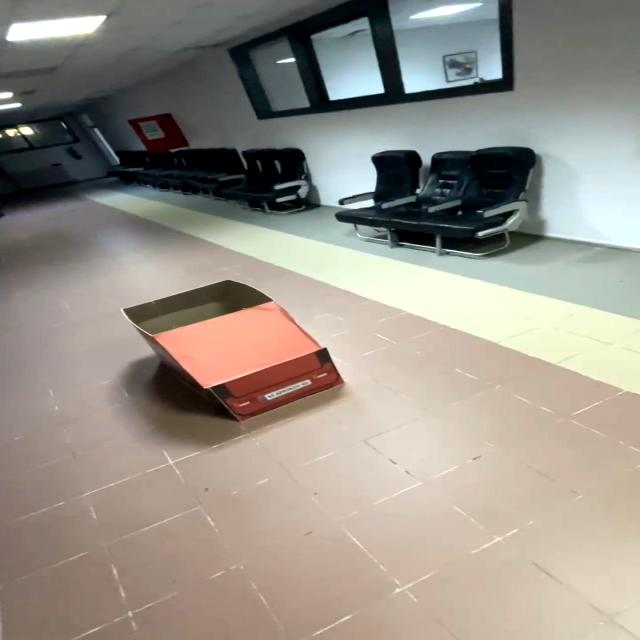red_car: (91, 260, 404, 447)
